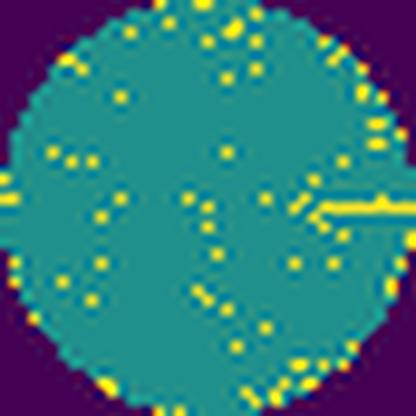Scratch: (303, 189, 416, 237)
